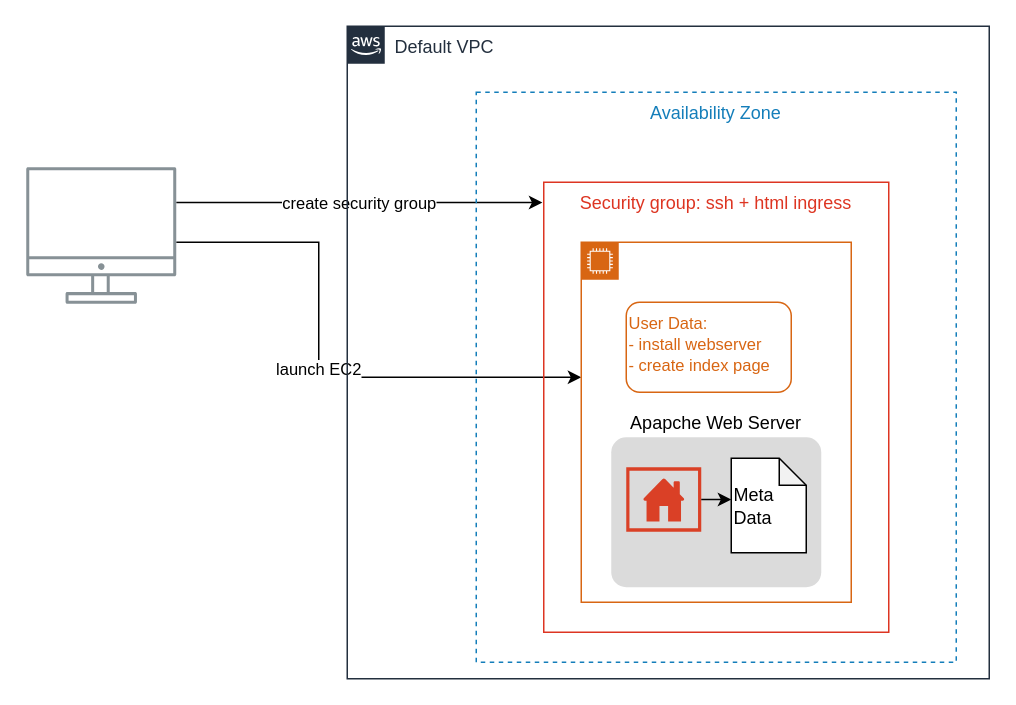
Some shapes in this 1016 by 705 pixel diagram are drawn without their labels. Here are the shapes that lost their labels. From the top down, the box of each, then its label:
(26, 166, 176, 303): Workstation (bash)
(580, 241, 851, 602): EC2 instance
(626, 466, 700, 531): index.html
